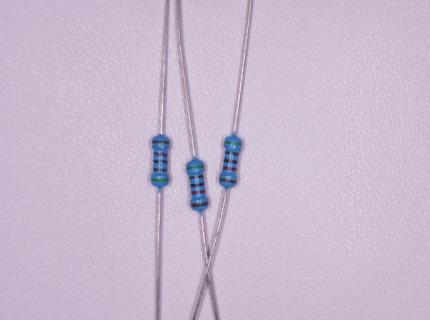Black band: (190, 182, 205, 189), (223, 158, 238, 164), (154, 159, 168, 165)
Brown band: (219, 177, 237, 184), (191, 202, 209, 208), (188, 174, 204, 180), (151, 140, 170, 145), (225, 151, 240, 157), (153, 168, 168, 173)
Green band: (224, 140, 243, 146), (186, 165, 205, 170), (151, 178, 169, 182)
Red band: (223, 165, 237, 172), (191, 190, 206, 196), (154, 152, 168, 157)
